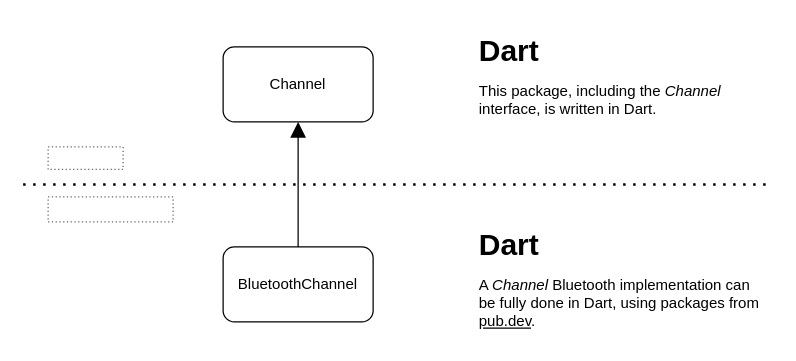
Image size: 796x361. Some labels were removed from this diagram. The box of each missing label's shape, as (x1, y1, x2, y2) in pixels:
Implementation: (47, 196, 173, 222)
Package: (47, 146, 123, 169)
